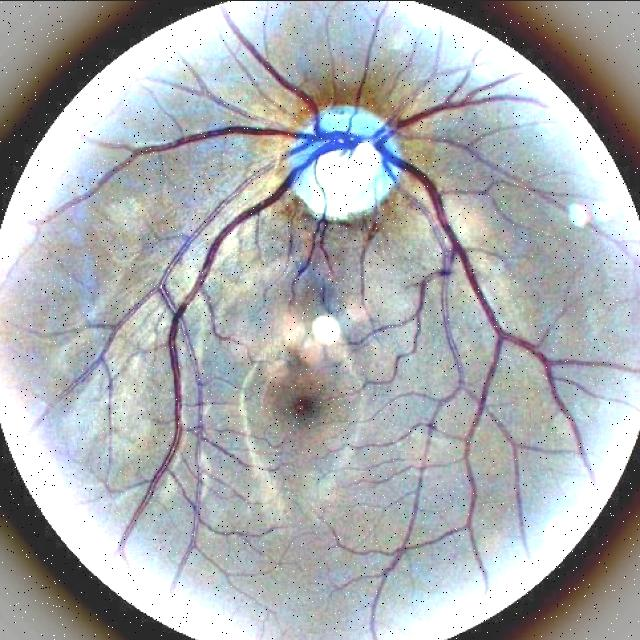Macula: (295, 397, 315, 414)
Nerves: (112, 5, 590, 555)
Optic Disk: (288, 106, 401, 219)
